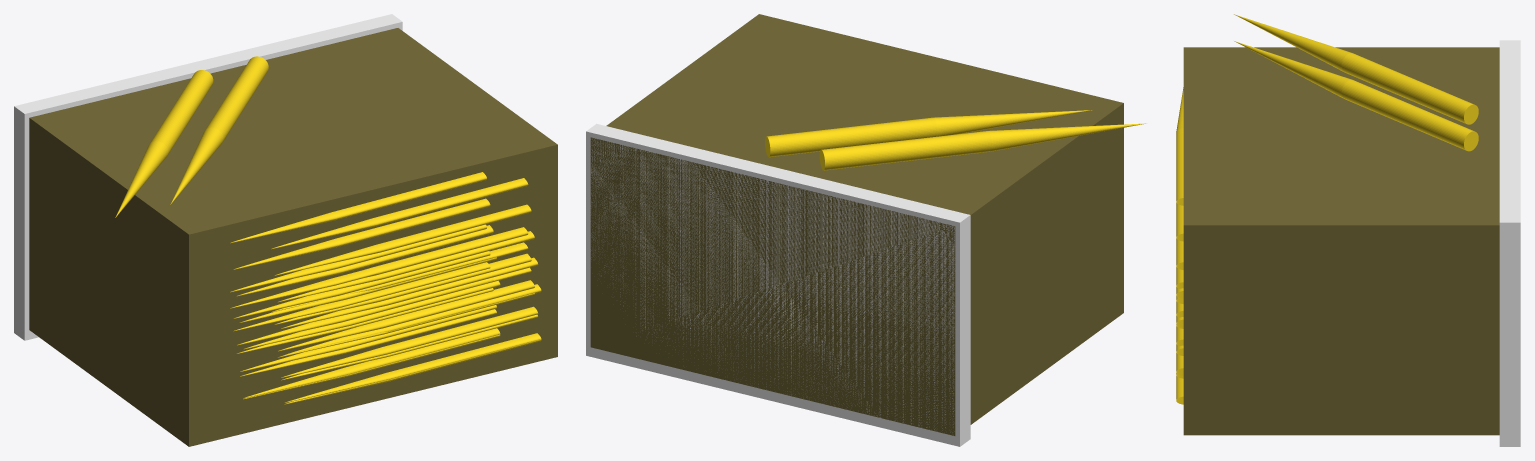
The model's file is tinker.obj.
The picture shows the model from 3 angles, left to right: view 1: azimuth 30°, elevation 25°; view 2: azimuth 150°, elevation 25°; view 3: azimuth 270°, elevation 25°; orthographic projection.
Parts seen in each view (by area): view 1: obj_0, obj_1, obj_2, obj_4, obj_31, obj_32, obj_28, obj_26, obj_6, obj_18, obj_14, obj_24 (+31 smaller); view 2: obj_0, obj_1, obj_4, obj_2, obj_5, obj_3; view 3: obj_0, obj_1, obj_2, obj_4, obj_5, obj_3, obj_26.
Part boxes in pixels (bbox=[...]): obj_0: bbox=[29, 28, 557, 446]; obj_1: bbox=[14, 14, 402, 340]; obj_2: bbox=[205, 56, 268, 141]; obj_4: bbox=[150, 70, 213, 155]; obj_31: bbox=[335, 198, 490, 246]; obj_32: bbox=[376, 204, 531, 252]; obj_28: bbox=[373, 178, 528, 225]; obj_26: bbox=[332, 172, 486, 219]; obj_6: bbox=[373, 227, 528, 274]; obj_18: bbox=[383, 306, 538, 354]; obj_14: bbox=[380, 280, 534, 328]; obj_24: bbox=[345, 328, 500, 374]; obj_0: bbox=[590, 14, 1123, 435]; obj_1: bbox=[586, 123, 970, 446]; obj_4: bbox=[819, 131, 991, 170]; obj_2: bbox=[765, 117, 937, 157]; obj_5: bbox=[989, 123, 1146, 151]; obj_3: bbox=[934, 110, 1092, 136]; obj_0: bbox=[1183, 47, 1499, 435]; obj_1: bbox=[1499, 40, 1520, 446]; obj_2: bbox=[1341, 79, 1478, 151]; obj_4: bbox=[1341, 53, 1478, 124]; obj_5: bbox=[1234, 14, 1351, 71]; obj_3: bbox=[1234, 41, 1351, 98]; obj_26: bbox=[1176, 128, 1183, 205].
Bounding box in the file's own units: 22.92 × 12.5 × 16.36.
